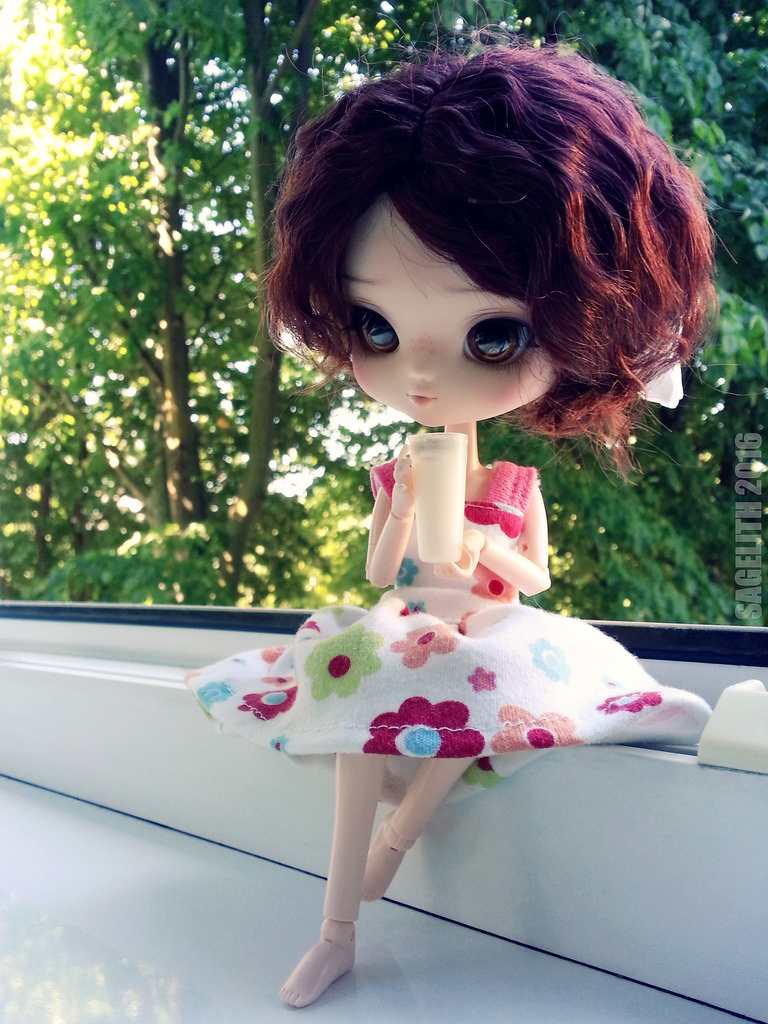glass of milk: (412, 427, 468, 568)
